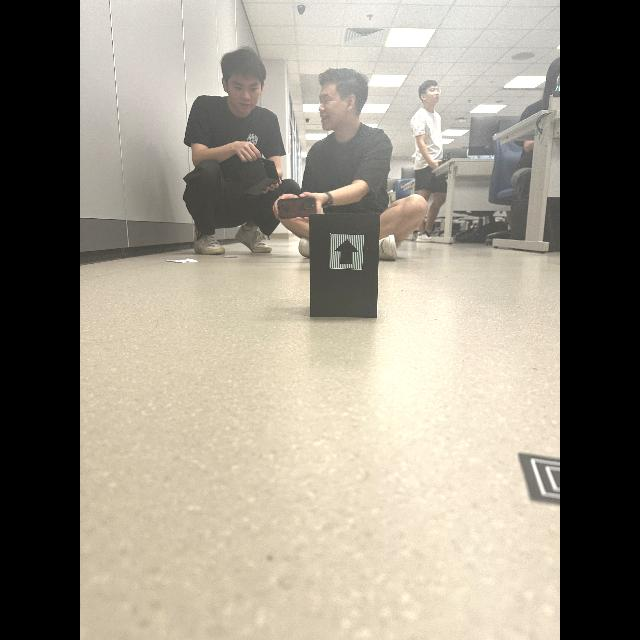UP: (334, 239, 359, 265)
